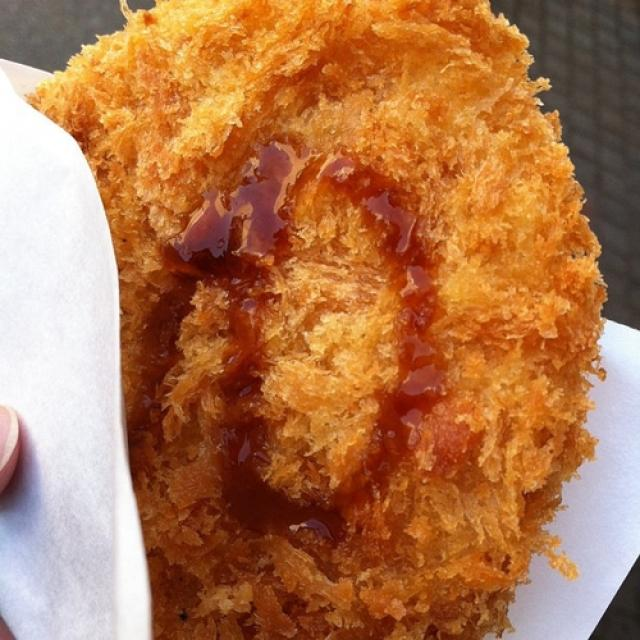炸货点心: (36, 12, 612, 616)
